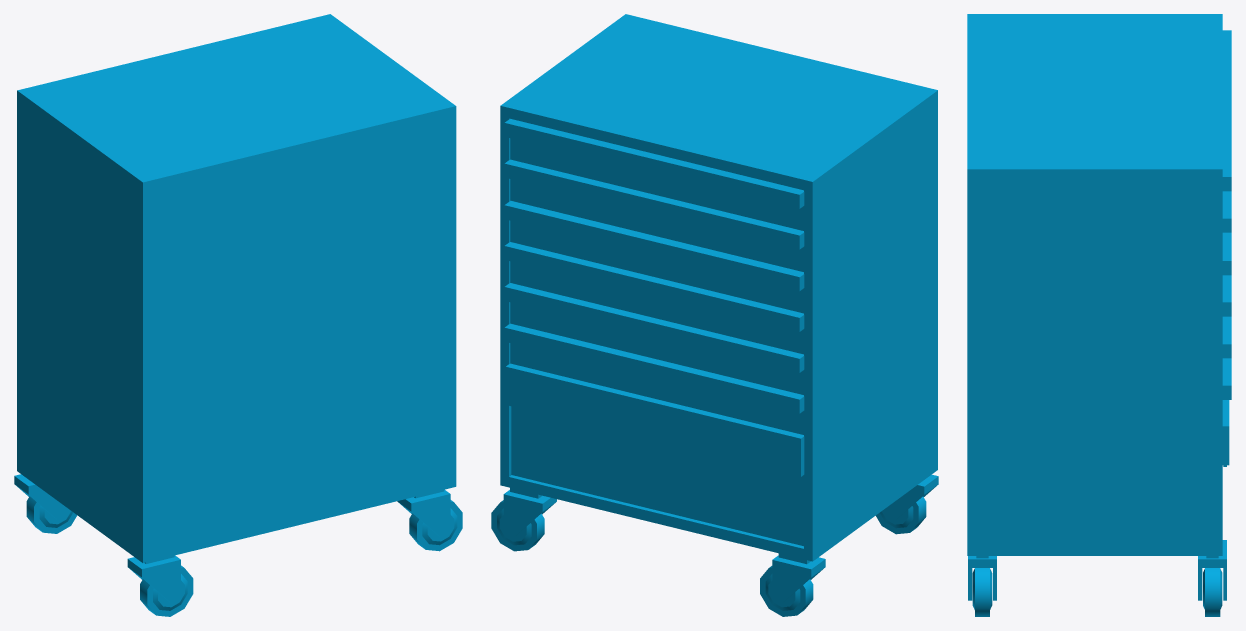
File: ToolBox_01_Lod0.fbx
3 renders of one model, left to right at view 1: azimuth 30°, elevation 25°; view 2: azimuth 150°, elevation 25°; view 3: azimuth 270°, elevation 25°, orthographic.
Visible parts, largest first — view 1: ToolBox_01_Lod0; view 2: ToolBox_01_Lod0; view 3: ToolBox_01_Lod0.
Boxes of the visible parts, x1,y1,x2,y2 form: ToolBox_01_Lod0: [14, 14, 462, 616]; ToolBox_01_Lod0: [491, 14, 938, 616]; ToolBox_01_Lod0: [967, 14, 1231, 616].
Bounding box in the file's own units: 85.35 × 112 × 59.32.
